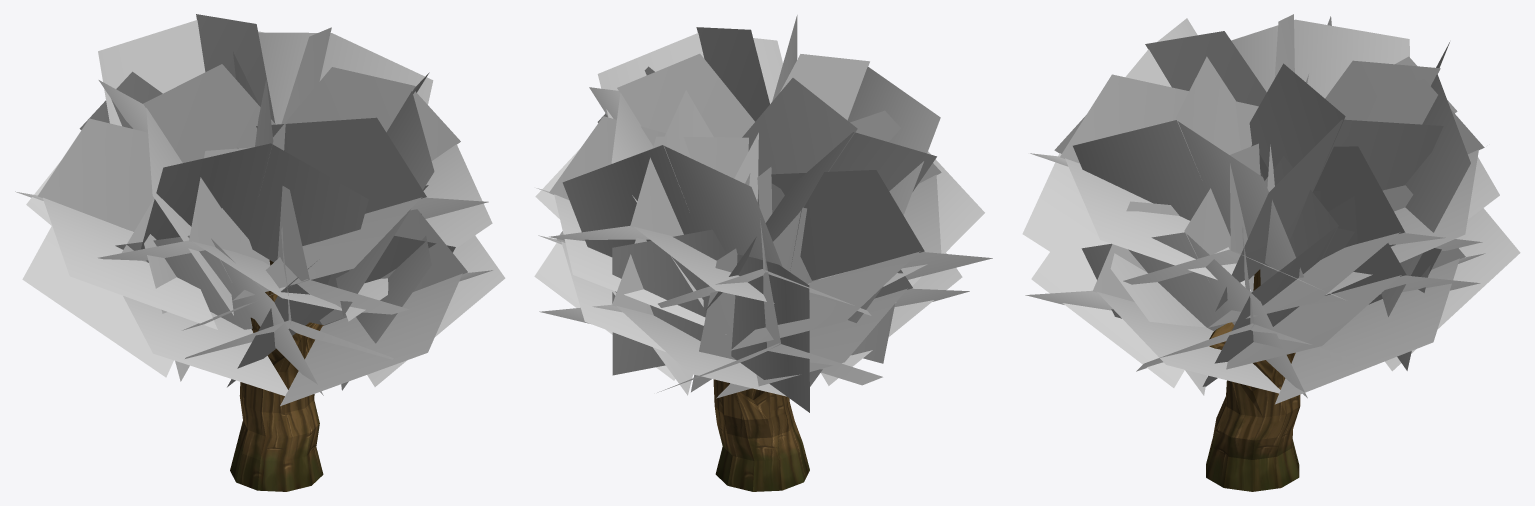
Rendered from tree-2.FBX.
The picture shows the model from 3 angles, left to right: view 1: azimuth 30°, elevation 25°; view 2: azimuth 150°, elevation 25°; view 3: azimuth 270°, elevation 25°; orthographic projection. The views are drawn at different scales.
Parts seen in each view (by area): view 1: tree-2, Object001; view 2: tree-2, Object001; view 3: tree-2, Object001.
Part boxes in pixels (box(x1,y1,x2,y2)): tree-2: box(15, 14, 505, 406); Object001: box(230, 260, 323, 491); tree-2: box(534, 15, 992, 412); Object001: box(713, 379, 809, 491); tree-2: box(1022, 14, 1520, 404); Object001: box(1206, 269, 1300, 491).
Size of the model in its own units: 1964 by 1883 by 1968.
